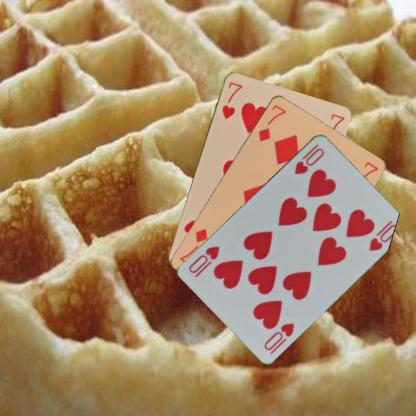10h: (261, 320, 296, 352), (291, 145, 325, 176)
7d: (255, 101, 288, 143)
7h: (219, 79, 244, 120)
